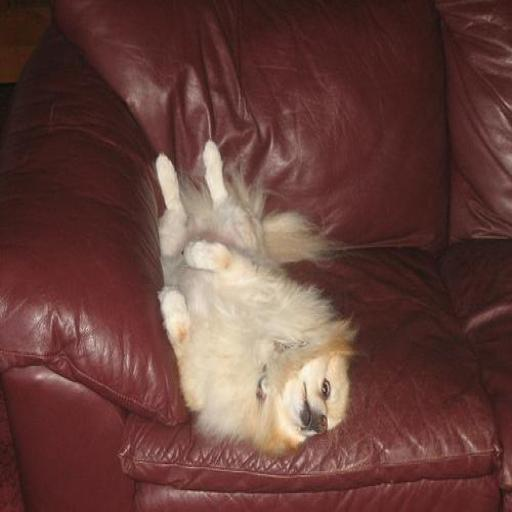dog_face: (266, 339, 356, 443)
